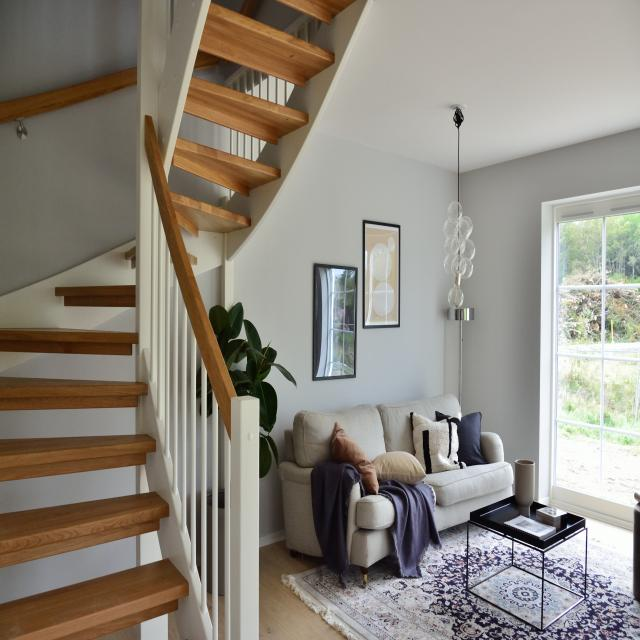Staircase: (5, 259, 183, 640)
a sofa: (297, 376, 547, 561)
table: (458, 455, 606, 621)
window: (548, 214, 640, 529)
